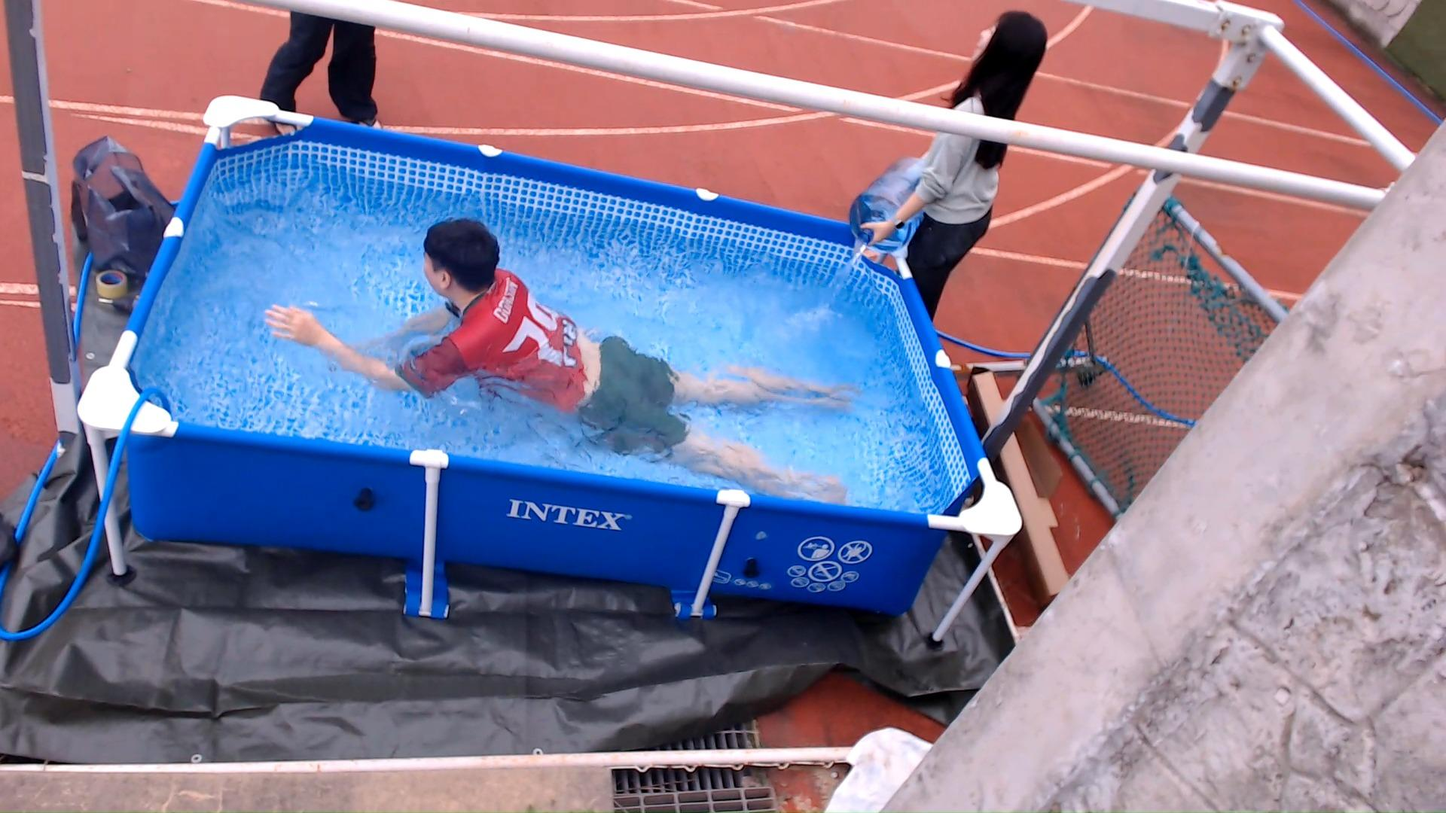Swimming: (255, 185, 870, 501)
